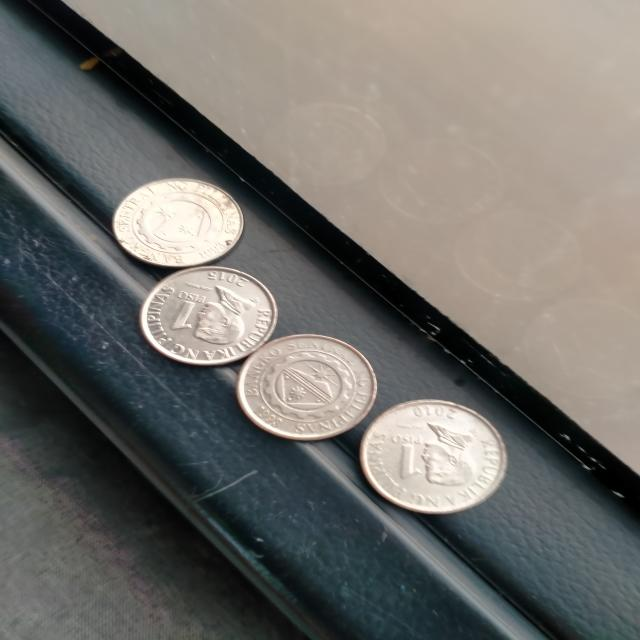1_Old_Back: (254, 348, 353, 422), (132, 182, 232, 251)
